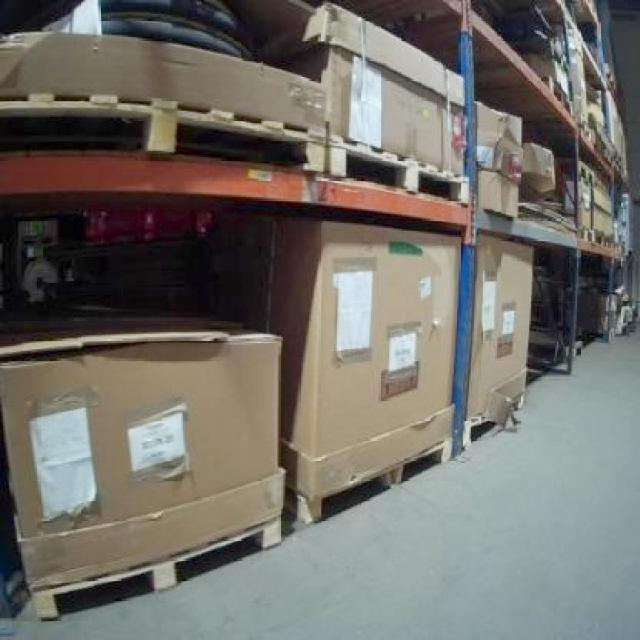floor: (0, 326, 637, 637)
pallets: (0, 331, 280, 614), (271, 218, 455, 514), (466, 234, 529, 418)
